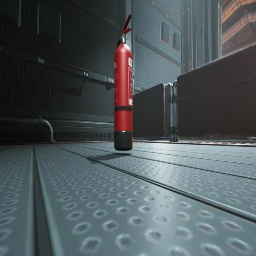FireExtinguisher ]: (114, 14, 133, 151)
